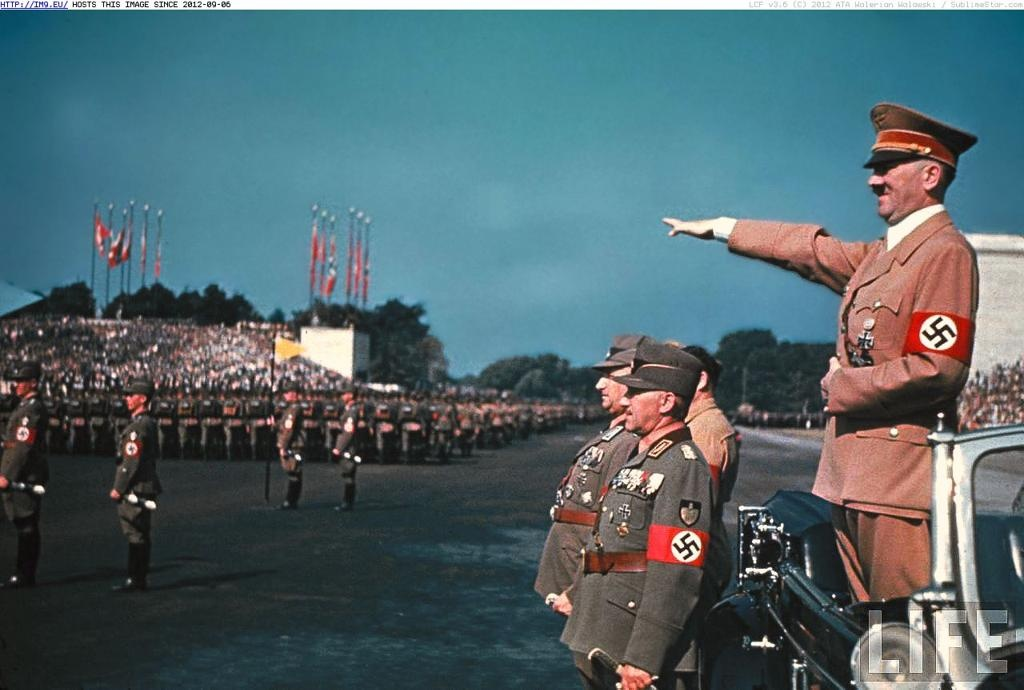human_face: (867, 142, 921, 216), (619, 377, 659, 432), (594, 356, 636, 408), (125, 389, 141, 409), (14, 376, 30, 394), (341, 387, 351, 400), (284, 387, 294, 399)
